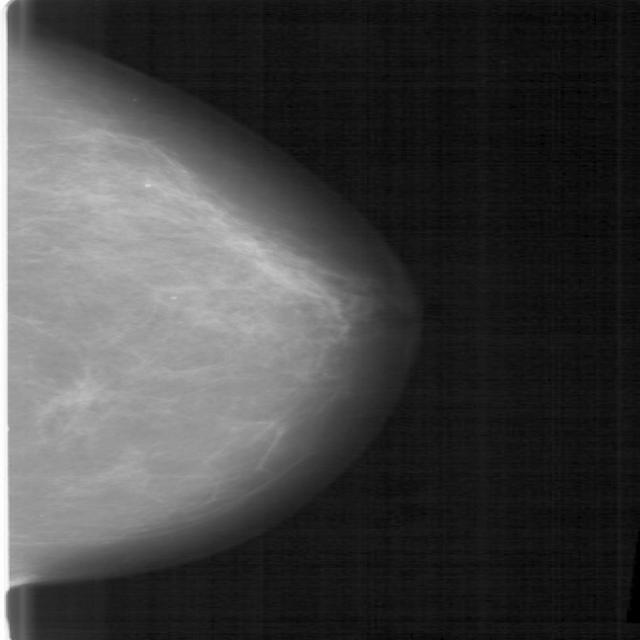tumour: (44, 372, 107, 411)
